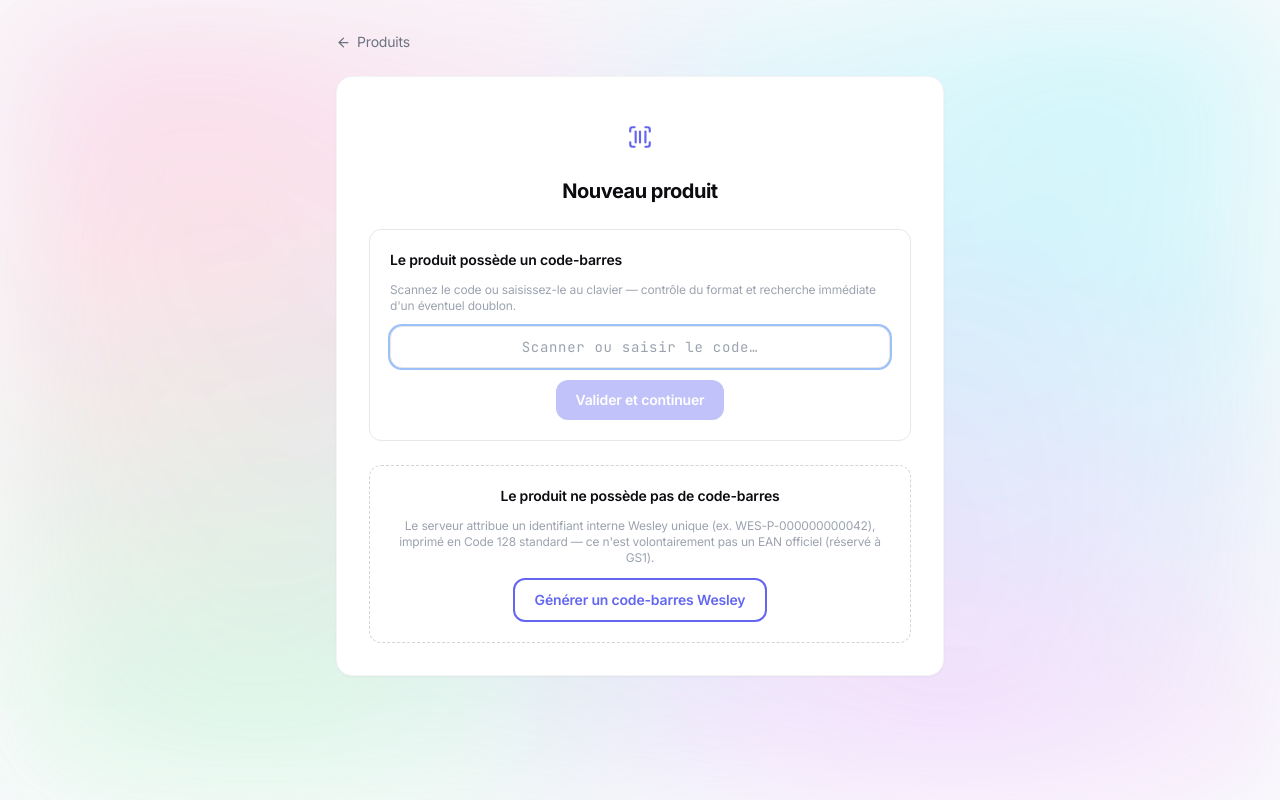
Test case: Porte Nouveau produit — deux parcours › échec serveur de génération → message explicite, on reste sur la porte
Click the button "Générer un code-barres Wesley" at (640, 600), box [513,578,767,622]
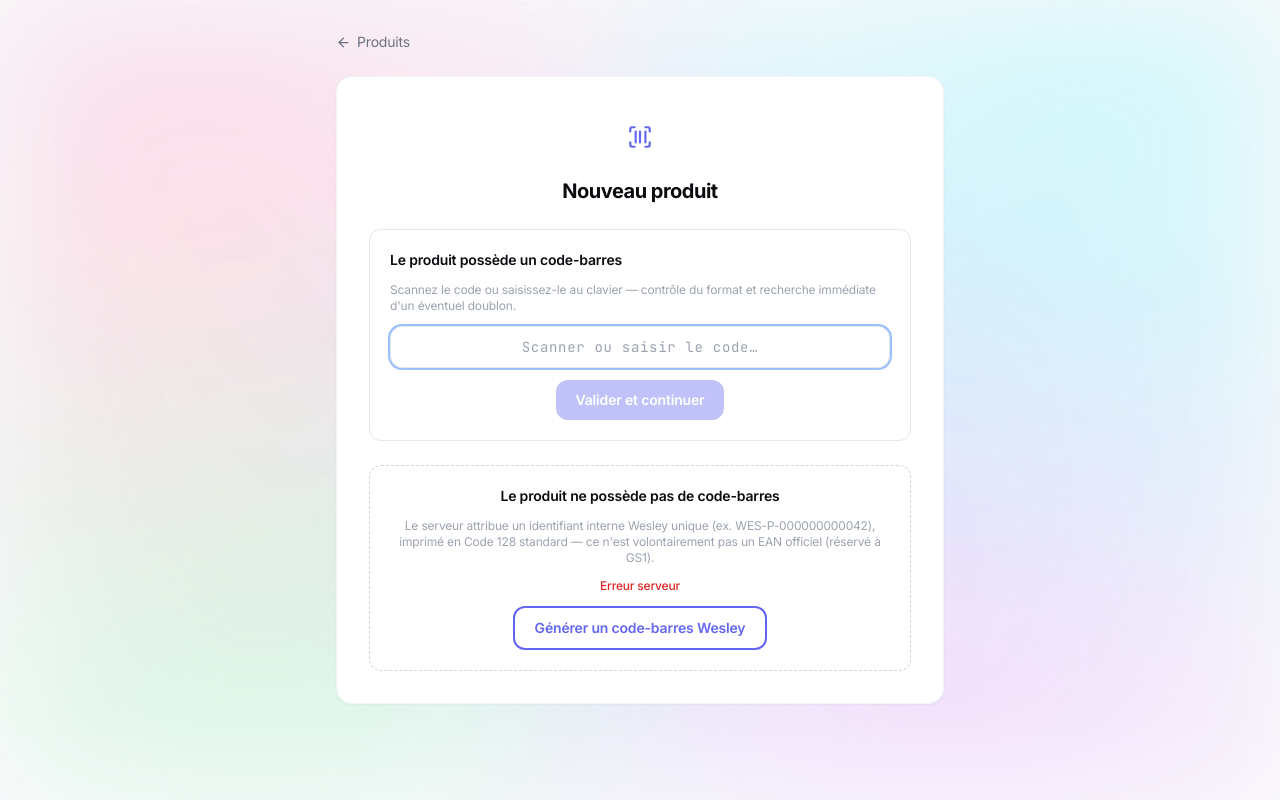
Expected: the text "Le produit ne possède pas de code-barres" is shown, [500,487,780,504]
Expected: the text "Erreur serveur" is shown, [600,578,680,593]
